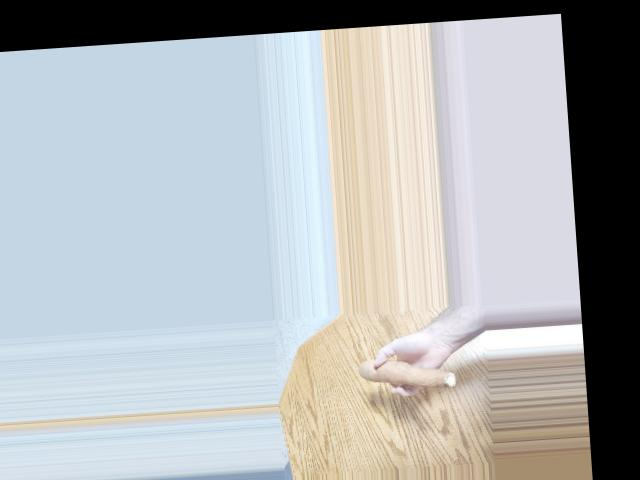sweet_potato: (354, 358, 464, 395)
